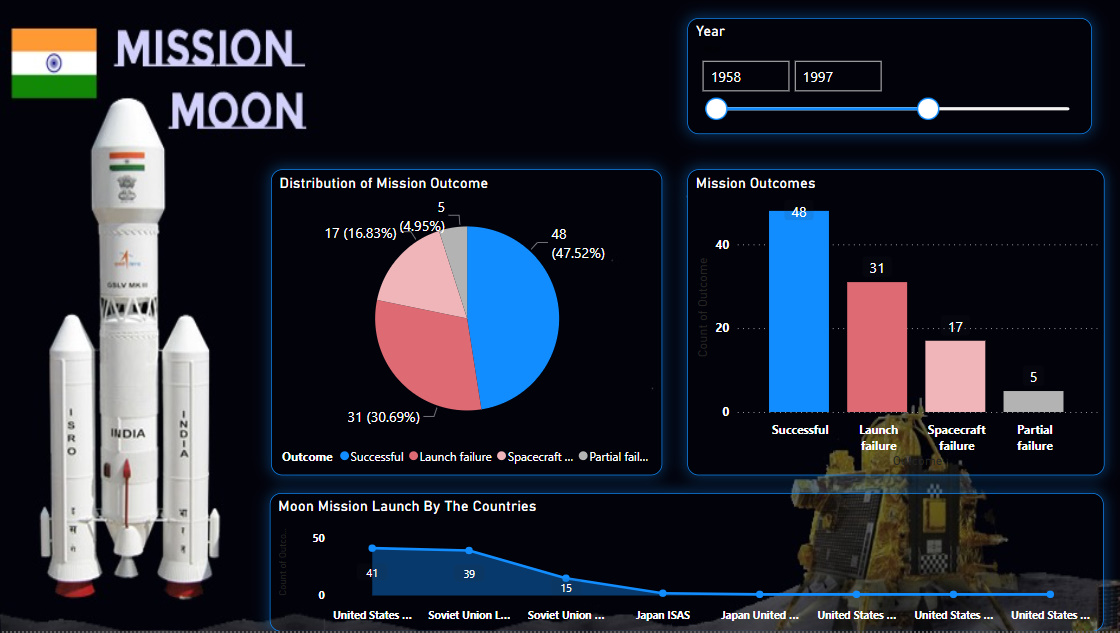

The page's visual inventory and layout, read from the dashboard file:
{"tool":"powerbi","page":{"name":"DB1","canvas":[1280,720],"ordinal":0},"visuals":[{"type":"slicer","title":"Year","fields":{"Values":["Data set Part 1 - Moonlanding.Launch Date.Variation.Date Hierarchy.Year"]},"box":[785.8,22.7,460.4,132.1],"z":0},{"type":"columnChart","title":"Mission Outcomes","fields":{"Category":["Data set Part 1 - Moonlanding.Outcome"],"Y":["CountNonNull(Data set Part 1 - Moonlanding.Outcome)"]},"box":[785.8,194.7,474.6,348.1],"z":1000},{"type":"pieChart","title":"Distribution of Mission Outcome","fields":{"Category":["Data set Part 1 - Moonlanding.Outcome"],"Y":["CountNonNull(Data set Part 1 - Moonlanding.Outcome)"]},"box":[312.6,194.7,444.8,348.1],"z":2000},{"type":"stackedAreaChart","title":"Moon Mission Launch By The Countries","fields":{"Category":["Data set Part 1 - Moonlanding.Operator"],"Y":["CountNonNull(Data set Part 1 - Moonlanding.Outcome)"]},"box":[311.2,562.7,947.8,157.7],"z":3000}]}

Visuals, with their boxes in screenshot pixels (x1, y1, x2, y2), scaled from the page's 1280x720 canvas onto the 1120x633 screenshot:
"Year" slicer: 688:20:1090:136
"Mission Outcomes" columnChart: 688:171:1103:477
"Distribution of Mission Outcome" pieChart: 274:171:663:477
"Moon Mission Launch By The Countries" stackedAreaChart: 272:495:1102:632
